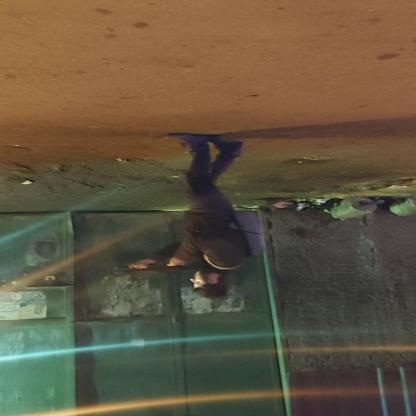long weapon: (102, 256, 214, 276)
